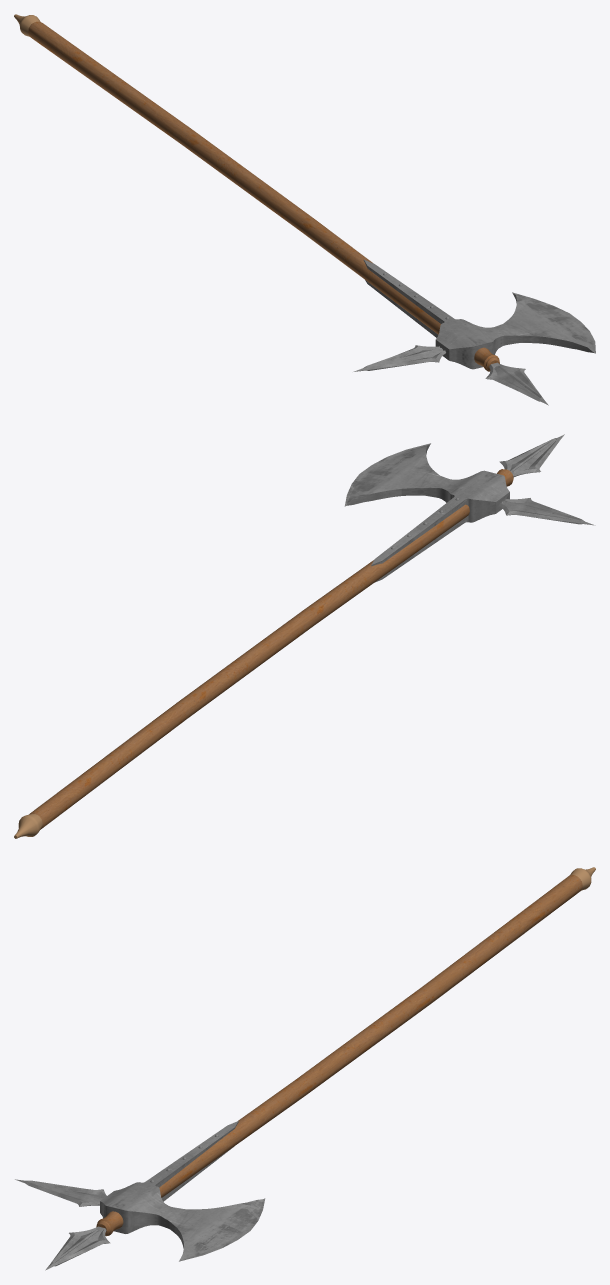
Rendered from Halberd.fbx.
3 renders of one model, top to bottom at view 1: azimuth 30°, elevation 25°; view 2: azimuth 150°, elevation 25°; view 3: azimuth 330°, elevation 25°, orthographic. The views are drawn at different scales.
Parts seen in each view (by area): view 1: Sphere.005; view 2: Sphere.005; view 3: Sphere.005.
Boxes of the visible parts, x1,y1,x2,y2 form: Sphere.005: (14, 14, 595, 405); Sphere.005: (14, 434, 595, 838); Sphere.005: (15, 867, 595, 1270).
Size of the model in its own units: 41.85 by 4.73 by 173.
